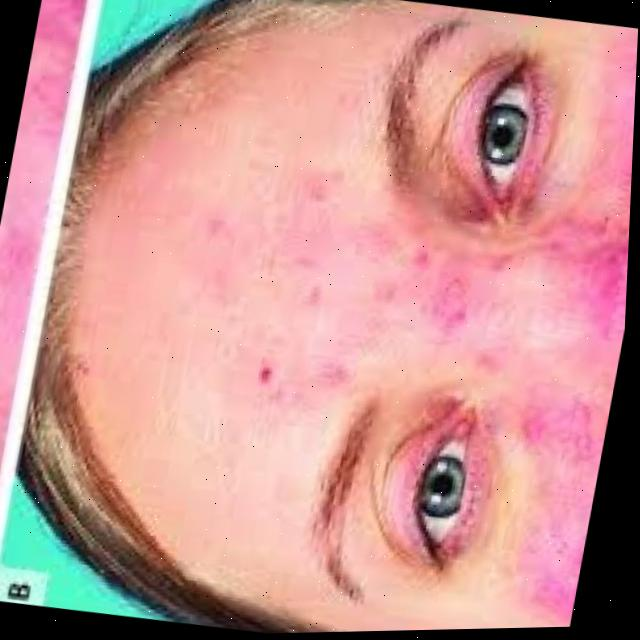Rosacea: (467, 18, 639, 599), (198, 211, 459, 420)
